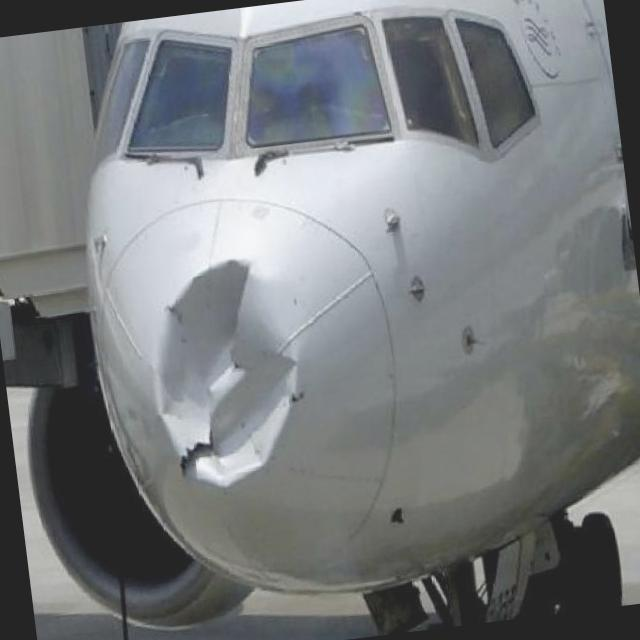dent: (130, 241, 330, 506)
